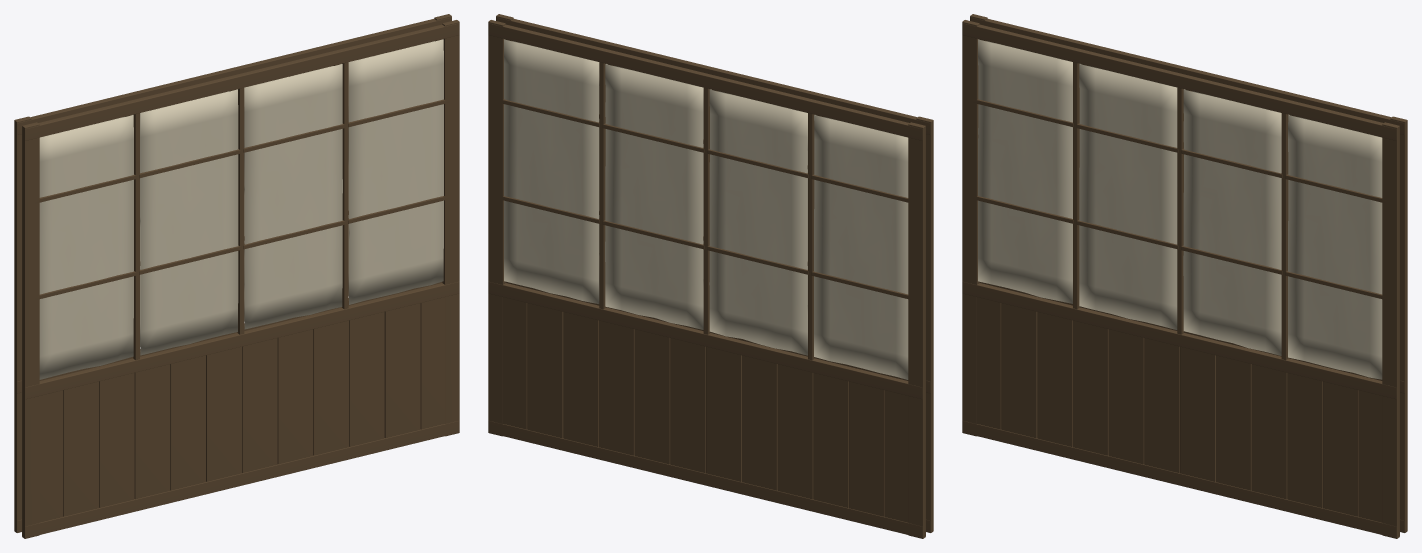
The model's file is door-leaf-lod0.fbx.
3 renders of one model, left to right at view 1: azimuth 30°, elevation 25°; view 2: azimuth 150°, elevation 25°; view 3: azimuth 330°, elevation 25°, orthographic.
Parts seen in each view (by area): view 1: Framed door paper.006, Framed door paper.005, Framed door paper.007, Framed door paper.004, Profiled door stile.002, Profiled door rail.005, Profiled door rail.004, Profiled door stile.003, Profiled door rail.003, Raised lower door board.015, Raised lower door board.019, Raised lower door board.022 (+23 smaller); view 2: Framed door paper.001, Framed door paper.002, Framed door paper, Framed door paper.003, Profiled door stile, Profiled door rail.002, Profiled door rail.001, Profiled door stile.001, Profiled door rail, Raised lower door board.003, Raised lower door board.007, Raised lower door board.010 (+21 smaller); view 3: Framed door paper.005, Framed door paper.006, Framed door paper.007, Framed door paper.004, Profiled door stile.003, Profiled door rail.005, Profiled door rail.004, Profiled door stile.002, Profiled door rail.003, Raised lower door board.013, Raised lower door board.016, Raised lower door board.020 (+23 smaller).
Part boxes in pixels (x1=…): Framed door paper.006: x1=244, y1=64, x2=342, y2=329; Framed door paper.005: x1=140, y1=89, x2=238, y2=355; Framed door paper.007: x1=348, y1=39, x2=443, y2=304; Framed door paper.004: x1=39, y1=115, x2=133, y2=379; Profiled door stile.002: x1=22, y1=122, x2=39, y2=538; Profiled door rail.005: x1=25, y1=23, x2=459, y2=140; Profiled door rail.004: x1=25, y1=281, x2=459, y2=399; Profiled door stile.003: x1=442, y1=20, x2=459, y2=436; Profiled door rail.003: x1=25, y1=421, x2=459, y2=538; Raised lower door board.015: x1=134, y1=364, x2=170, y2=499; Raised lower door board.019: x1=277, y1=329, x2=313, y2=464; Raised lower door board.022: x1=384, y1=303, x2=420, y2=438; Framed door paper.001: x1=605, y1=64, x2=703, y2=329; Framed door paper.002: x1=709, y1=89, x2=807, y2=355; Framed door paper: x1=504, y1=39, x2=599, y2=303; Framed door paper.003: x1=814, y1=115, x2=908, y2=379; Profiled door stile: x1=908, y1=122, x2=925, y2=538; Profiled door rail.002: x1=488, y1=23, x2=922, y2=140; Profiled door rail.001: x1=488, y1=281, x2=922, y2=399; Profiled door stile.001: x1=488, y1=20, x2=505, y2=436; Profiled door rail: x1=488, y1=421, x2=922, y2=538; Raised lower door board.003: x1=777, y1=364, x2=813, y2=499; Raised lower door board.007: x1=634, y1=329, x2=670, y2=464; Raised lower door board.010: x1=527, y1=303, x2=563, y2=438; Framed door paper.005: x1=1079, y1=64, x2=1177, y2=329; Framed door paper.006: x1=1183, y1=89, x2=1281, y2=355; Framed door paper.007: x1=1288, y1=115, x2=1382, y2=379; Framed door paper.004: x1=978, y1=39, x2=1072, y2=303; Profiled door stile.003: x1=1382, y1=122, x2=1399, y2=538; Profiled door rail.005: x1=962, y1=23, x2=1396, y2=140; Profiled door rail.004: x1=962, y1=281, x2=1396, y2=399; Profiled door stile.002: x1=962, y1=20, x2=979, y2=436; Profiled door rail.003: x1=962, y1=421, x2=1396, y2=538; Raised lower door board.013: x1=1001, y1=303, x2=1037, y2=438; Raised lower door board.016: x1=1108, y1=329, x2=1144, y2=464; Raised lower door board.020: x1=1251, y1=364, x2=1287, y2=499.
Size of the model in its own units: 259 by 234 by 11.4.
